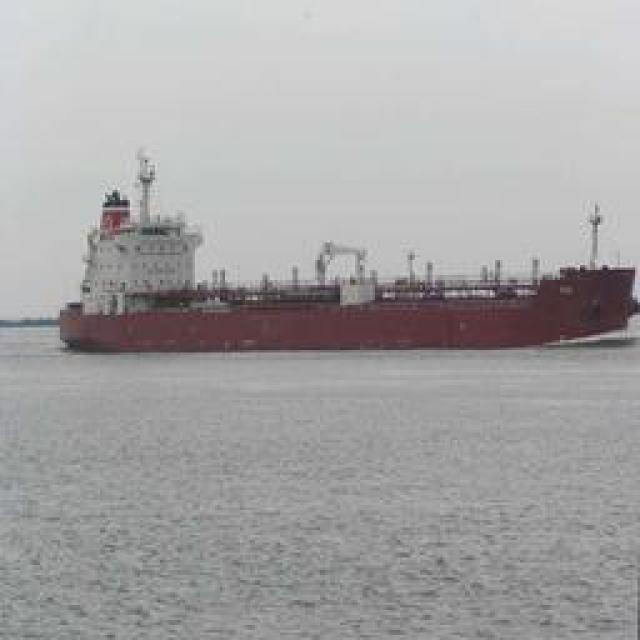Ship: (67, 162, 625, 350)
